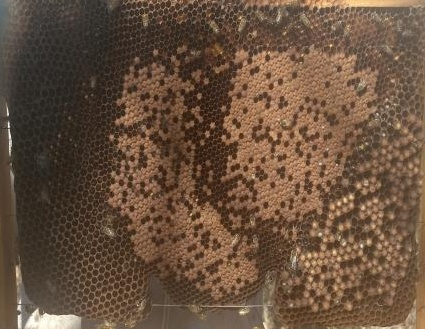cria: (219, 46, 424, 312), (107, 45, 260, 301)
